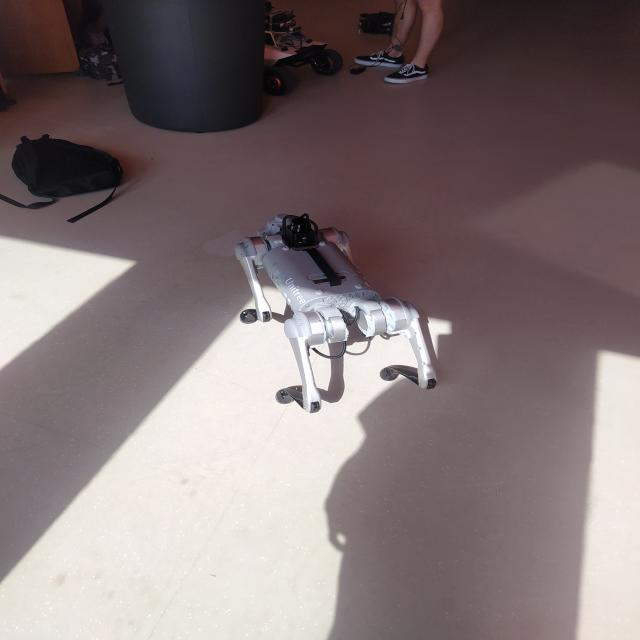unitree-go1-robot: (225, 206, 457, 418)
